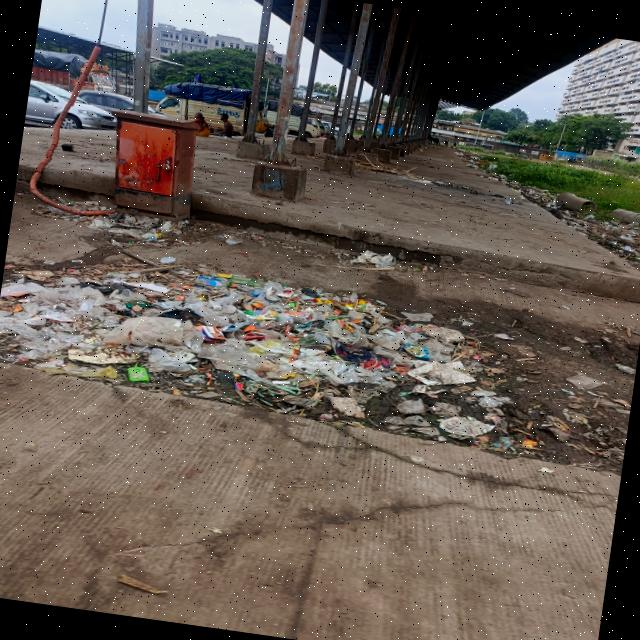garbage: (0, 247, 511, 442)
